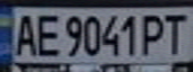0: (81, 11, 103, 57)
1: (118, 11, 142, 56)
4: (100, 11, 121, 56)
9: (60, 11, 84, 57)
A: (9, 10, 39, 56)
E: (33, 10, 60, 57)
P: (139, 10, 169, 56)
T: (160, 9, 190, 55)
